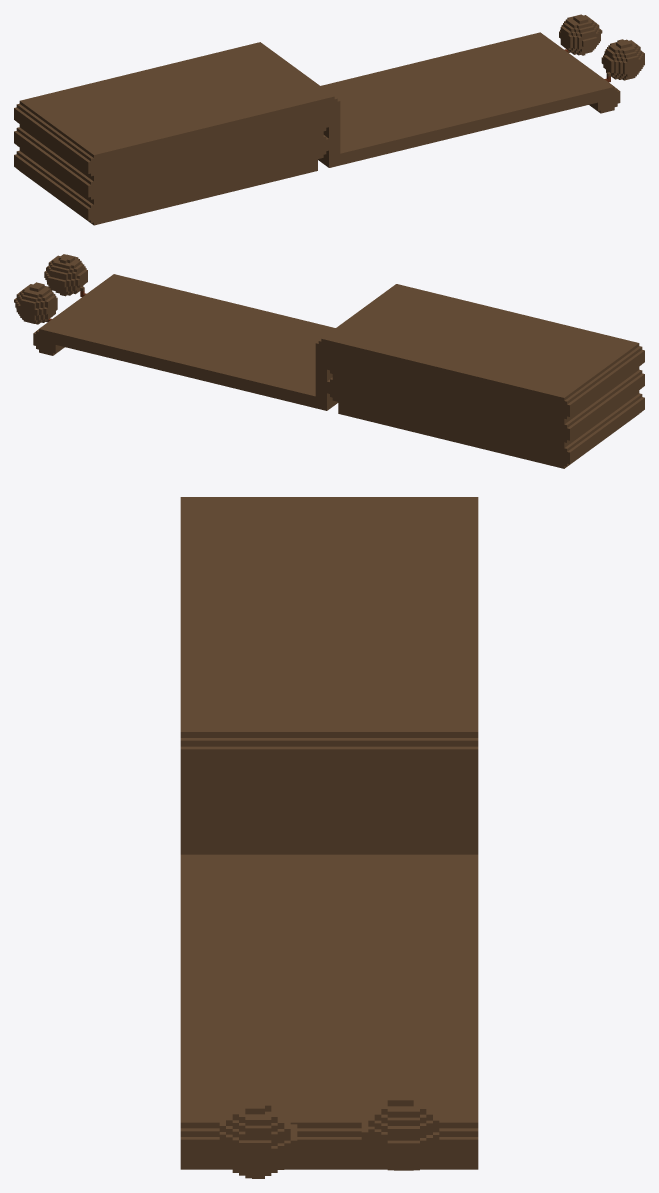
The model's file is scarf_fur_long.glb.
3 renders of one model, top to bottom at view 1: azimuth 30°, elevation 25°; view 2: azimuth 150°, elevation 25°; view 3: azimuth 270°, elevation 25°, orthographic. The views are drawn at different scales.
Visible parts, largest first — view 1: scarf_fur_long:compound; view 2: scarf_fur_long:compound; view 3: scarf_fur_long:compound.
Boxes of the visible parts, <box> form: scarf_fur_long:compound: <box>14,14,644,225</box>; scarf_fur_long:compound: <box>14,254,644,468</box>; scarf_fur_long:compound: <box>180,497,478,1178</box>.
Size of the model in its own units: 0.816 by 0.112 by 0.184.
